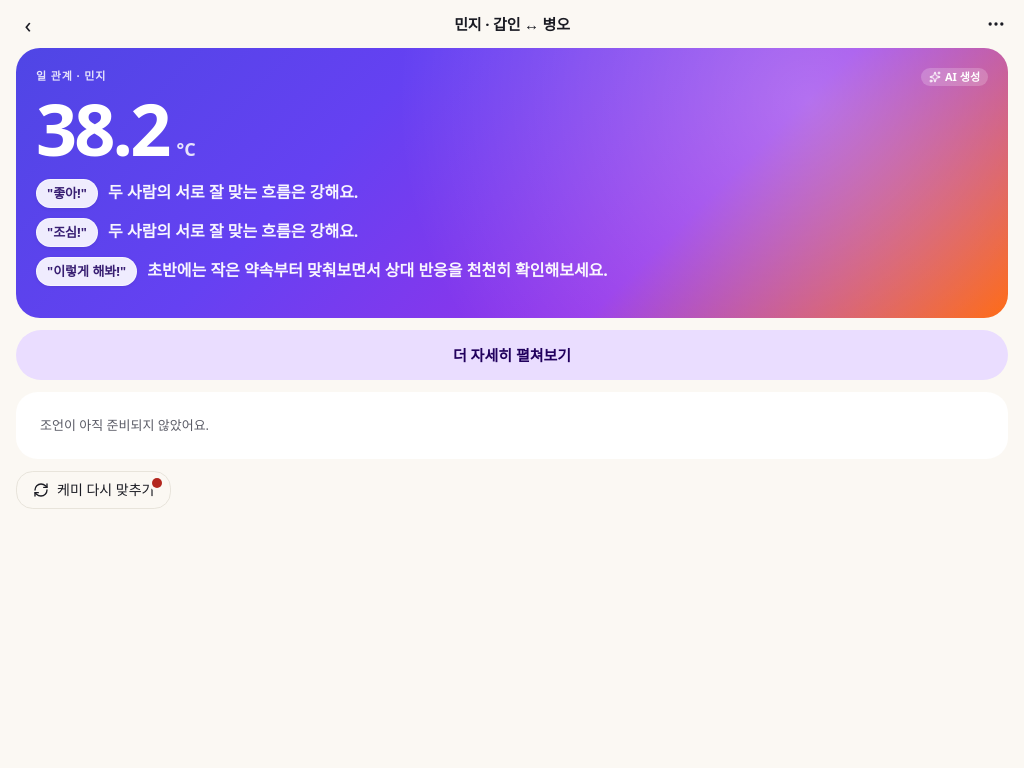
Test: HapcardView 별명 수정 › 별명 수정 메뉴를 누르면 현재 별명이 채워진 팝업을 연다
The image size is (1024, 768).
Step 1. Click the button named "more" → (996, 24), box x1=980 y1=8 x2=1012 y2=40
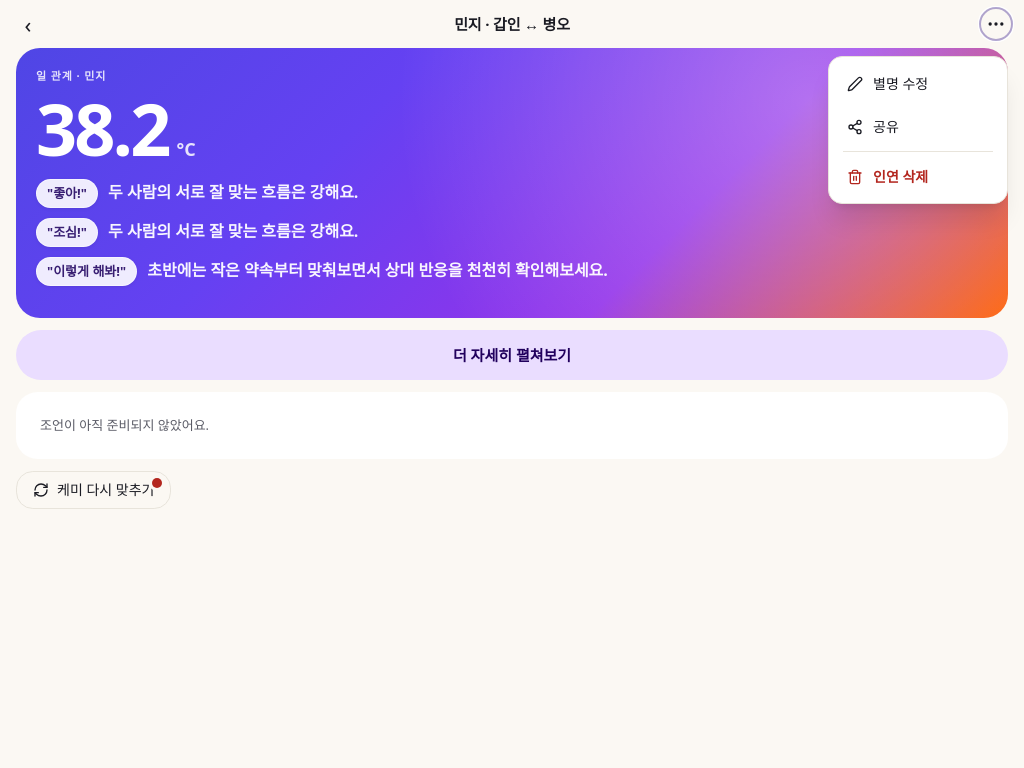
Step 2. Click the button "별명 수정" → (918, 84), box x1=835 y1=63 x2=1001 y2=104
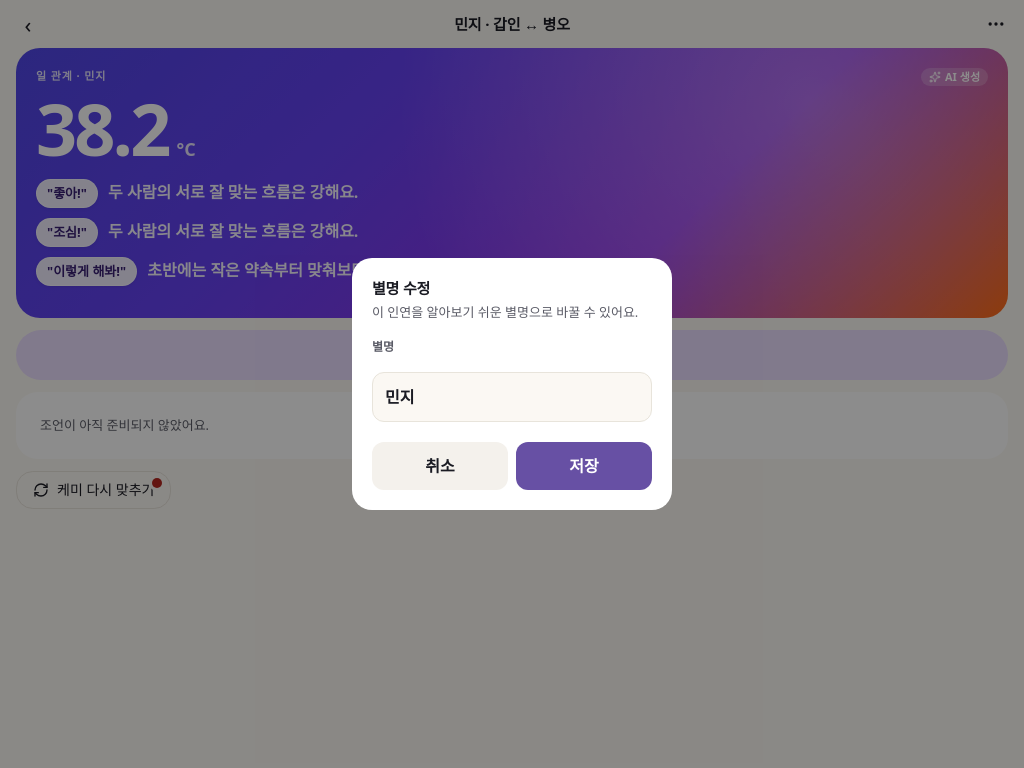
Check: the dialog "별명 수정" is shown, box x1=352 y1=258 x2=672 y2=510
Check: the field labelled "별명" holds "민지", box x1=372 y1=372 x2=652 y2=422
